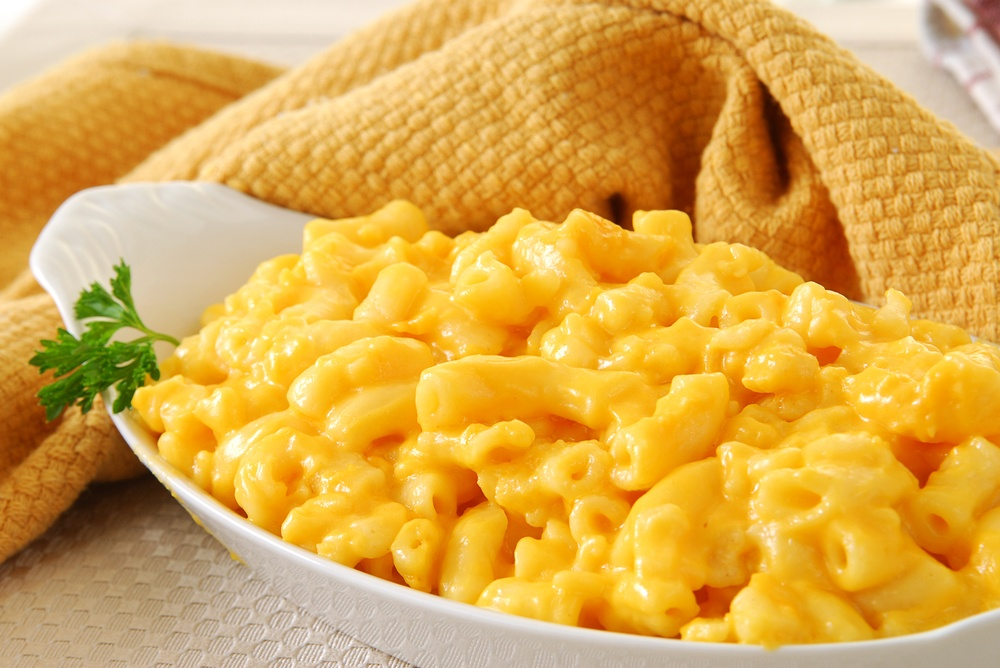macncheese: (121, 174, 1000, 649)
